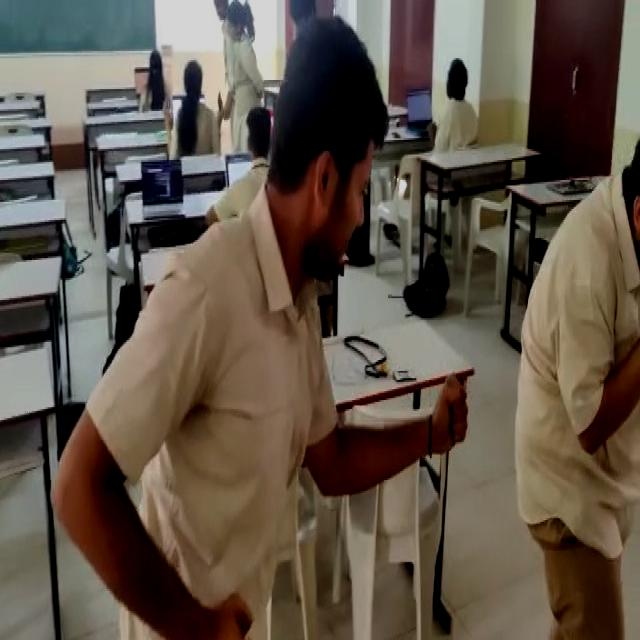fight: (58, 17, 640, 637)
